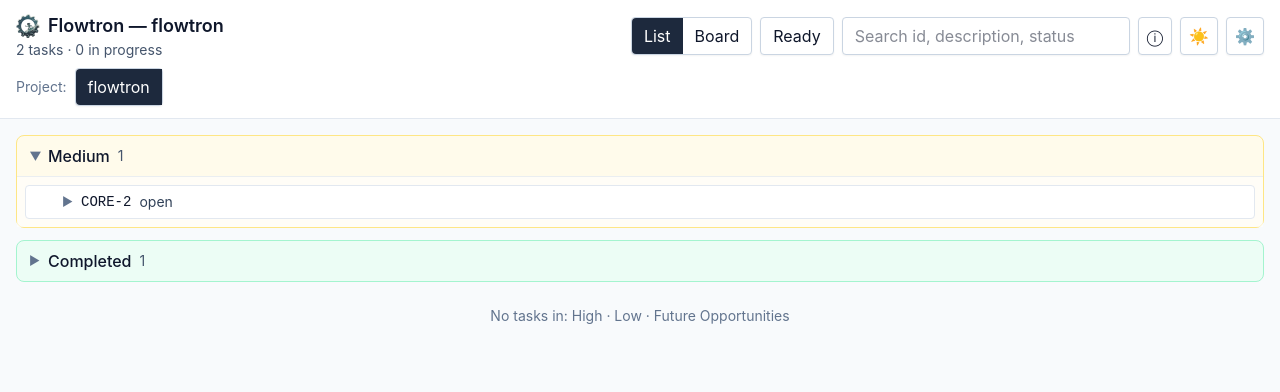
App — completed-bucket grouping › renders a top-level [x] row in Completed even when its heading is still Medium
Expected: the text "CORE-2" is shown, [81, 192, 131, 212]
Click the button "▶ Completed 1" at (90, 261), box [17, 241, 1263, 281]
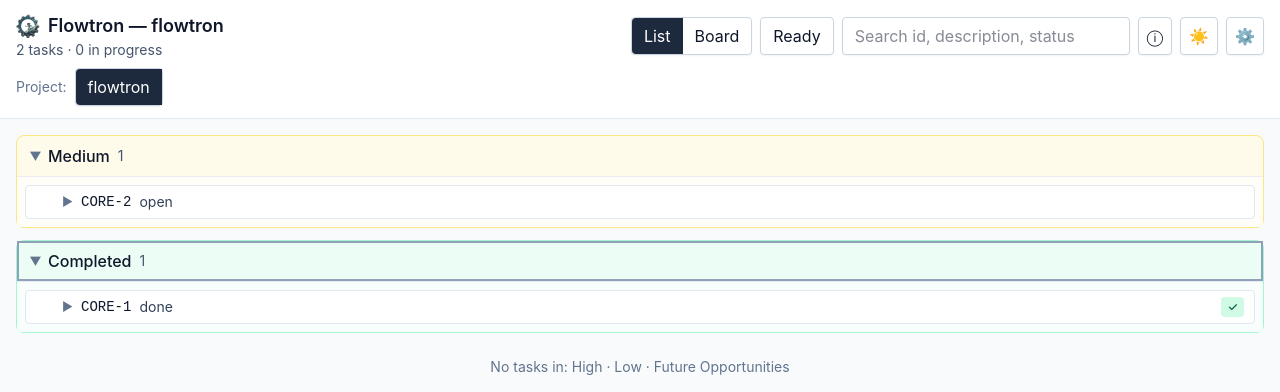
Expected: the text "Completed" is shown, [48, 249, 132, 273]
Expected: the text "CORE-1" is shown, [81, 297, 131, 317]
